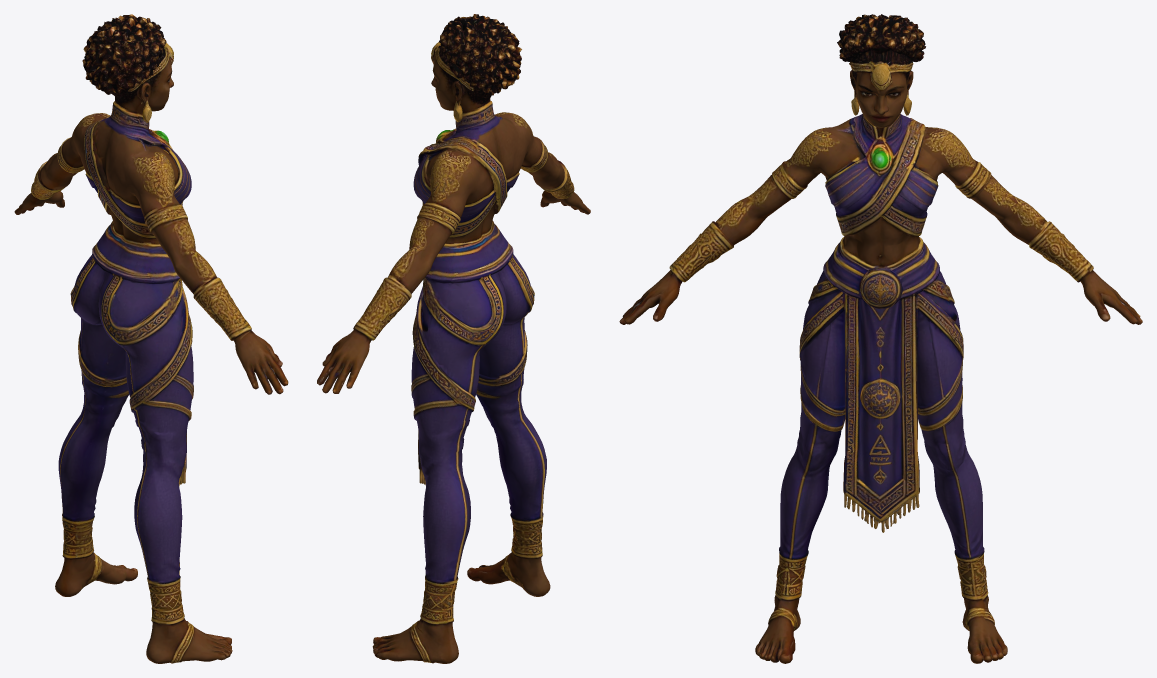
The model's file is kimaya.glb.
3 views of the same model, side by side, from view 1: azimuth 30°, elevation 25°; view 2: azimuth 150°, elevation 25°; view 3: azimuth 270°, elevation 25° (orthographic). The views are drawn at different scales.
Parts seen in each view (by area): view 1: tripo_node_7c9eeba2-155a-4944-8adc-5a83f1c0517f; view 2: tripo_node_7c9eeba2-155a-4944-8adc-5a83f1c0517f; view 3: tripo_node_7c9eeba2-155a-4944-8adc-5a83f1c0517f.
Part boxes in pixels (box(x1,y1,x2,y2)): tripo_node_7c9eeba2-155a-4944-8adc-5a83f1c0517f: box(14, 14, 288, 663); tripo_node_7c9eeba2-155a-4944-8adc-5a83f1c0517f: box(317, 14, 590, 663); tripo_node_7c9eeba2-155a-4944-8adc-5a83f1c0517f: box(619, 14, 1142, 663).
Size of the model in its own units: 0.1658 by 1 by 0.7609.
Materials: 1 (1 with a texture image).
